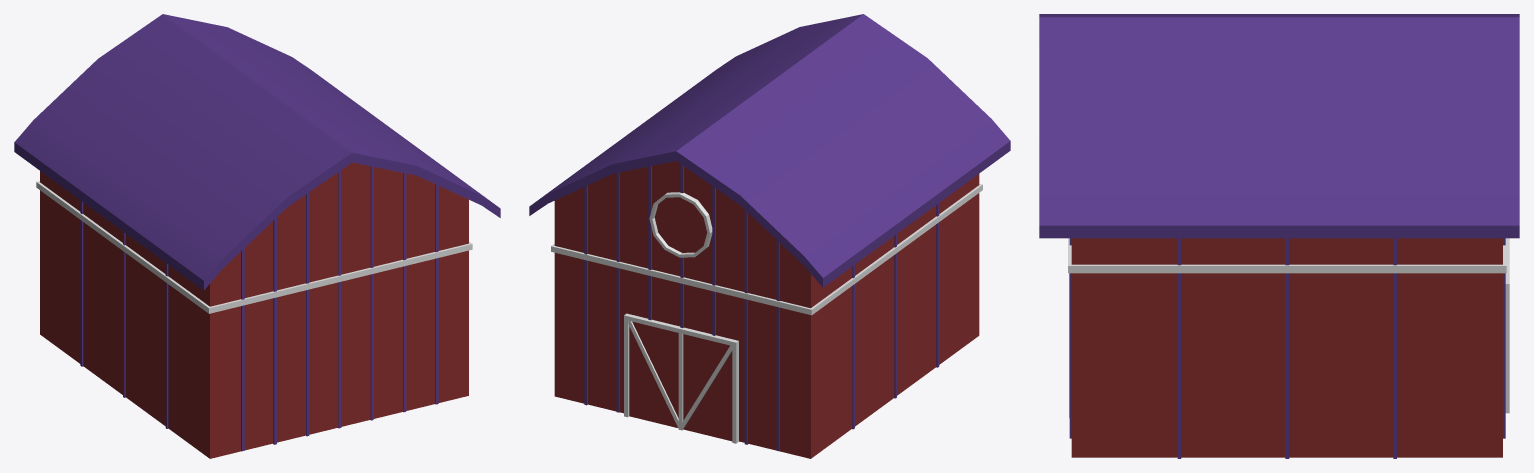
The model's file is Celeiro.fbx.
3 views of the same model, side by side, from view 1: azimuth 30°, elevation 25°; view 2: azimuth 150°, elevation 25°; view 3: azimuth 270°, elevation 25° (orthographic). The views are drawn at different scales.
Visible parts, largest first — view 1: polySurface21, polySurface17, polySurface33, polySurface13; view 2: polySurface21, polySurface17, polySurface20, polySurface13, polySurface33; view 3: polySurface17, polySurface21, polySurface13, polySurface33.
Boxes of the visible parts, x1=… form: polySurface21: x1=40, y1=162, x2=468, y2=458; polySurface17: x1=14, y1=14, x2=500, y2=290; polySurface33: x1=80, y1=166, x2=438, y2=451; polySurface13: x1=36, y1=181, x2=472, y2=313; polySurface21: x1=554, y1=161, x2=979, y2=458; polySurface17: x1=529, y1=14, x2=1010, y2=287; polySurface20: x1=629, y1=197, x2=732, y2=441; polySurface13: x1=551, y1=184, x2=982, y2=443; polySurface33: x1=584, y1=164, x2=939, y2=451; polySurface17: x1=1039, y1=14, x2=1519, y2=238; polySurface21: x1=1071, y1=238, x2=1502, y2=457; polySurface13: x1=1068, y1=238, x2=1509, y2=413; polySurface33: x1=1069, y1=238, x2=1505, y2=458.
Size of the model in its own units: 12.55 by 11.53 by 13.88.
